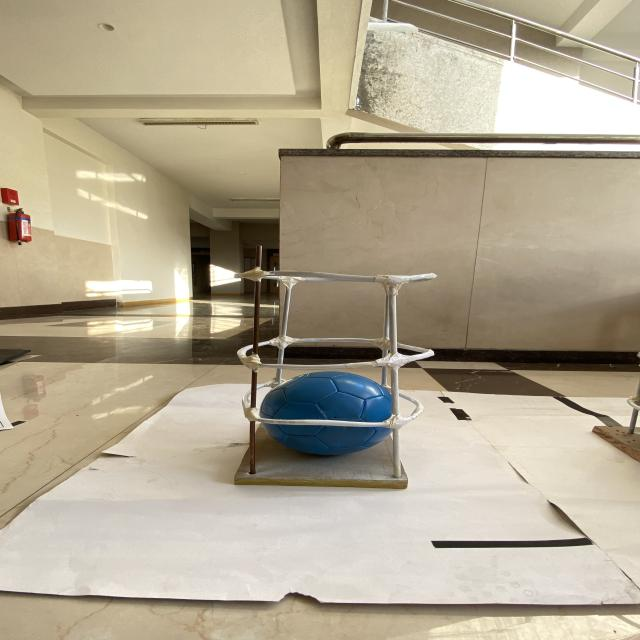blue_ball: (263, 368, 398, 455)
silo: (236, 268, 435, 490)
